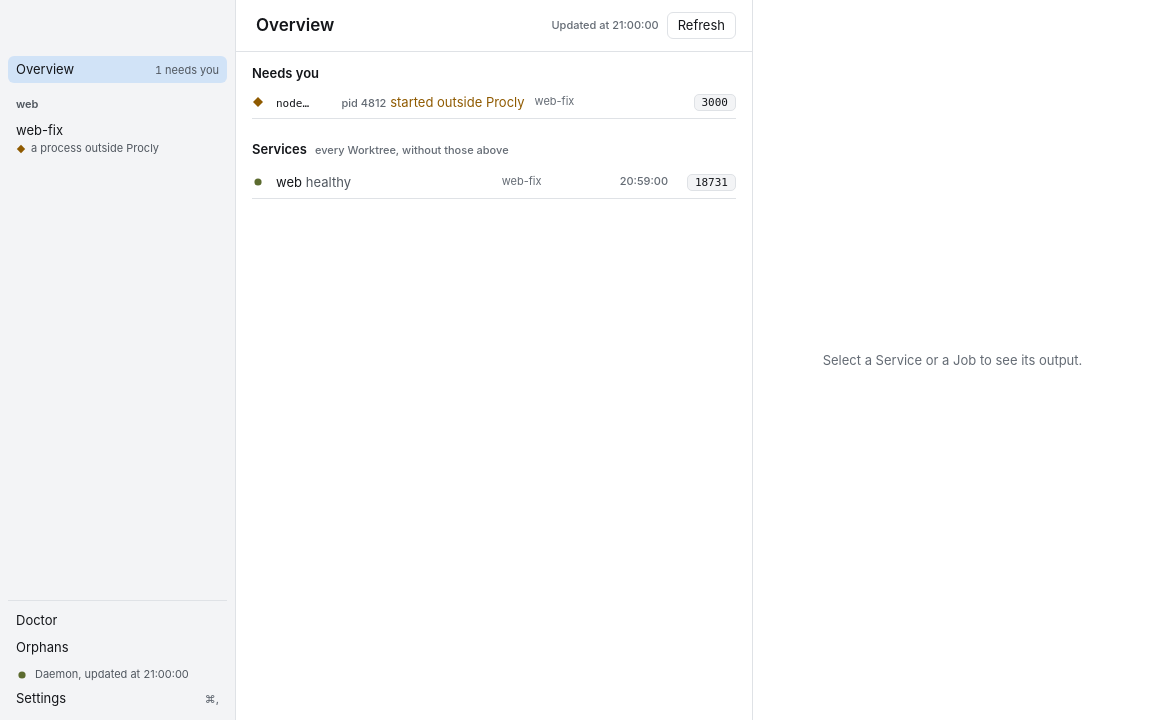
Scenario: the context menu of a row › offers Mark as Unseen on a Seen row, which brings it back in Needs you and in the count
This screenshot has width=1152, height=720.
Later steps or results of the test are not shown.
Click the button "web-fix a process outside Procly" at x=118, y=139, box [8,117,227,161]
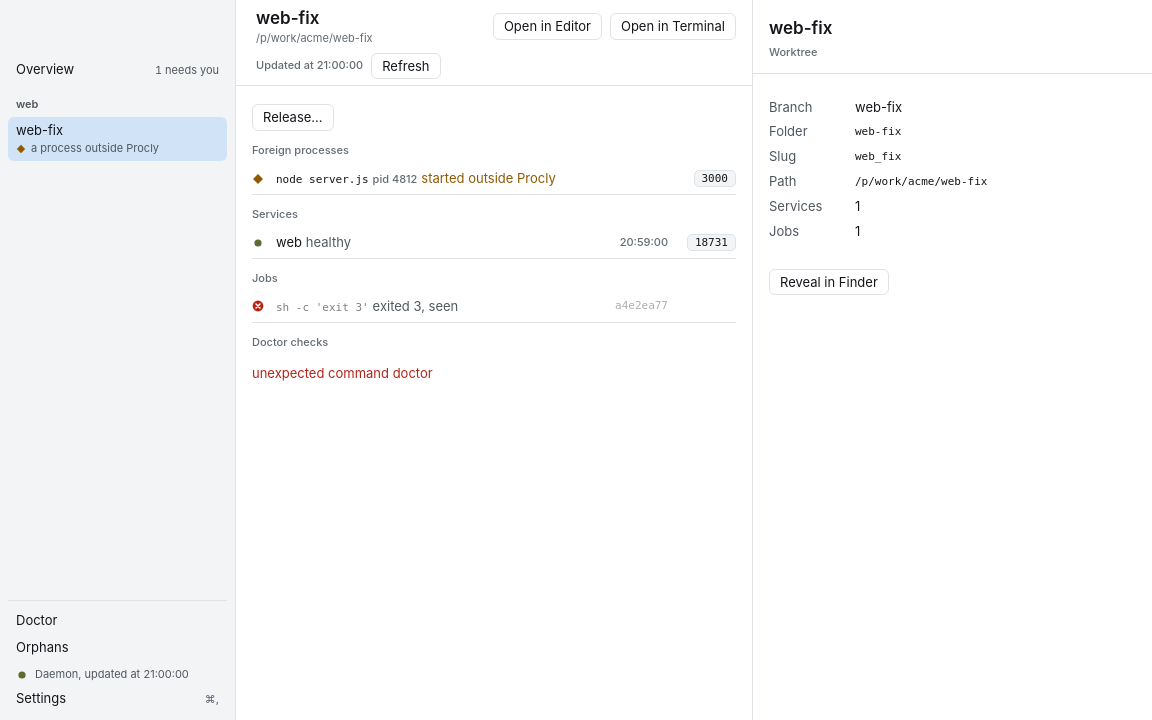
expect the heading "Services" is shown: met, box [252,207,298,221]
Right-click the button "sh -c 'exit 3' exited 3, seen a4e2ea77" at x=460, y=306, box [252,297,668,316]
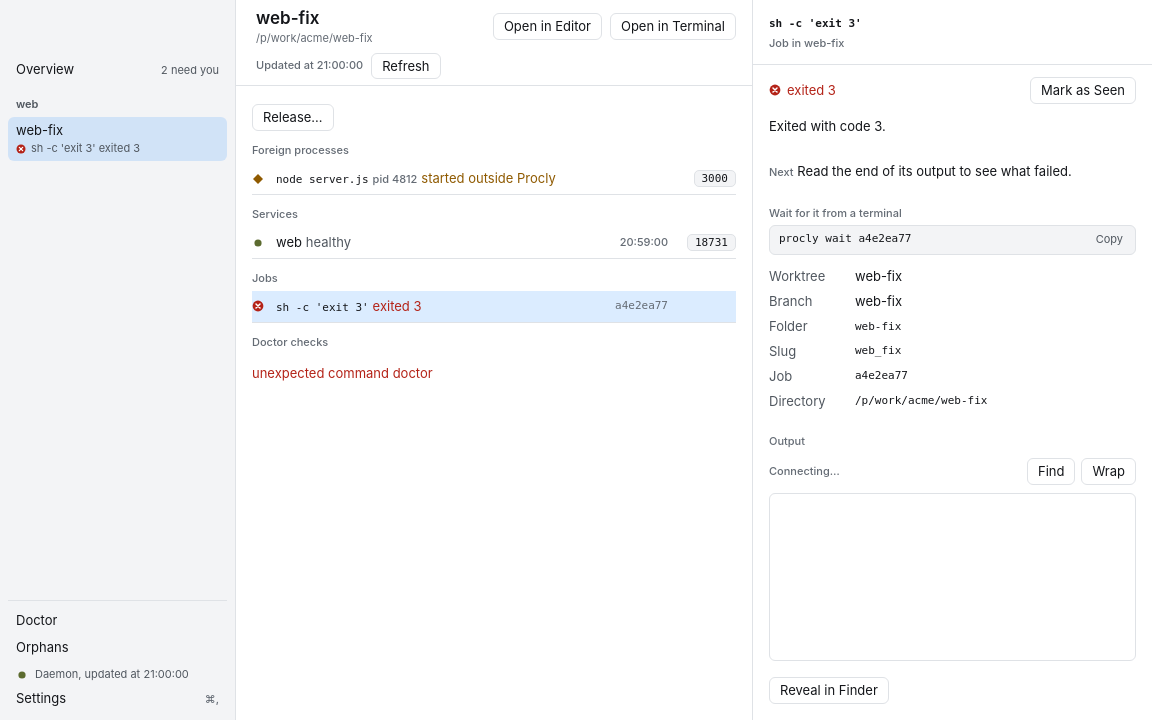
expect the button "Overview 2 need you" is shown: met
Click the button "Overview 2 need you" at x=118, y=69, box [8,56,227,83]
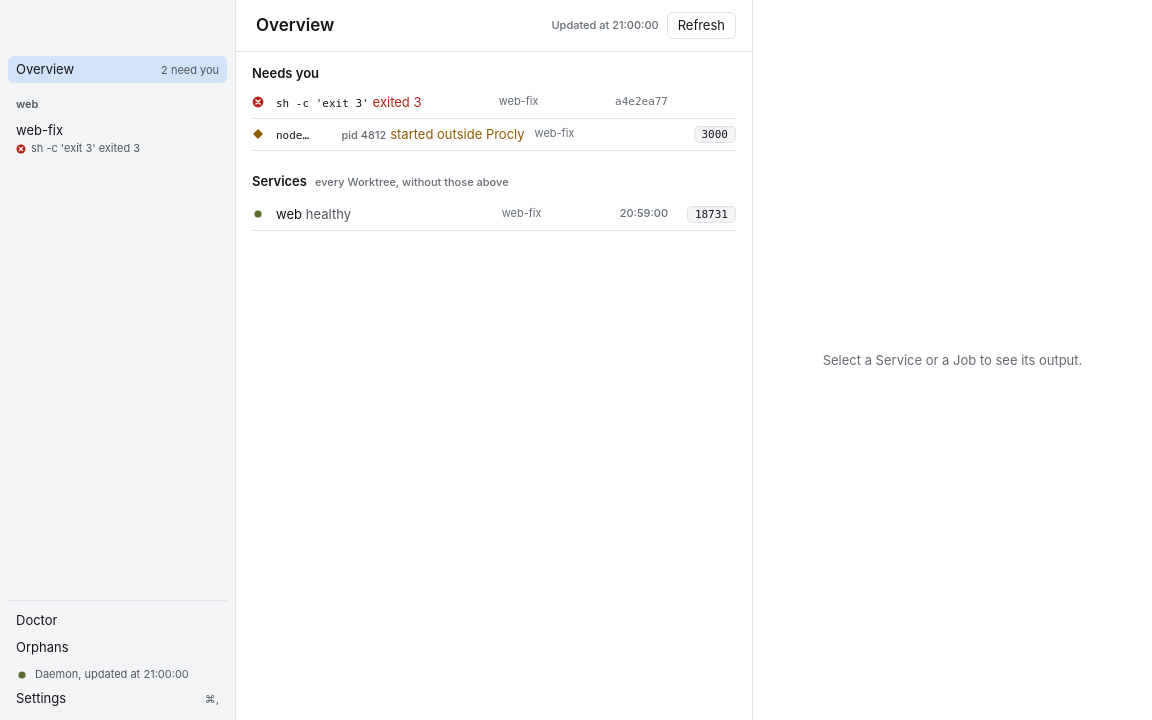
expect the text "sh -c 'exit 3'" is shown: met, box [276,96,369,112]
